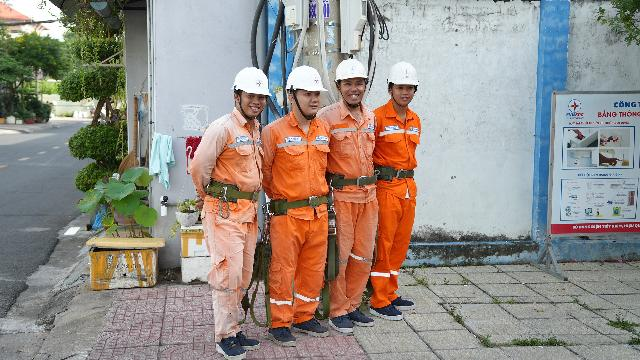harness: (246, 186, 328, 214), (312, 162, 379, 190), (207, 179, 265, 206), (367, 160, 420, 189)
helmet: (280, 59, 329, 98), (385, 55, 426, 99), (231, 65, 278, 98), (329, 55, 373, 85)
shoes: (262, 315, 297, 352), (339, 300, 377, 331), (323, 301, 357, 335), (290, 313, 329, 341), (363, 297, 403, 324), (377, 287, 417, 311), (227, 326, 262, 352), (215, 331, 244, 360)
